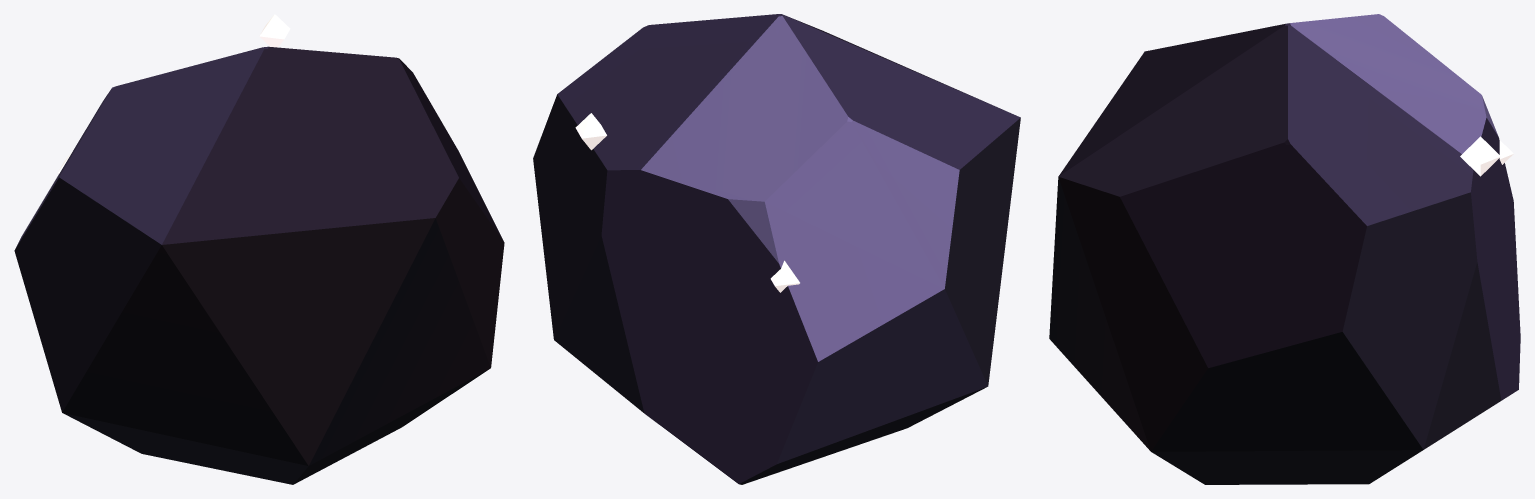
Rendered from ore_obsidian.glb.
The picture shows the model from 3 angles, left to right: view 1: azimuth 30°, elevation 25°; view 2: azimuth 150°, elevation 25°; view 3: azimuth 270°, elevation 25°; orthographic projection. The views are drawn at different scales.
Bounding box in the file's own units: 0.26 × 0.22 × 0.23.
